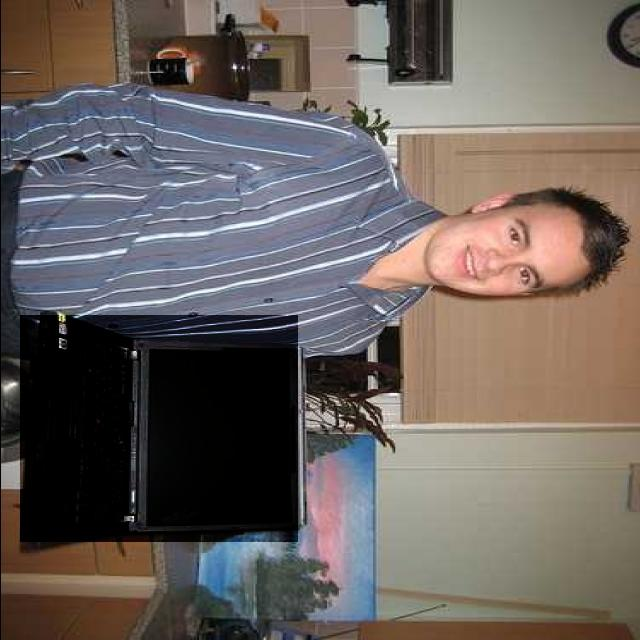-keyboard-: (20, 315, 298, 542)
